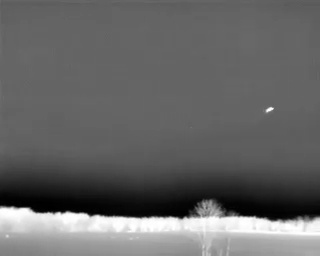BIRD: (262, 103, 277, 118)
